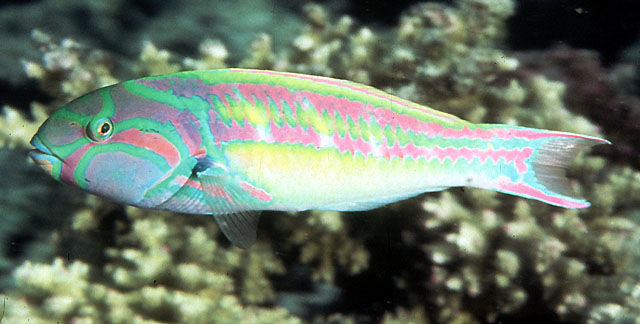fish: (29, 67, 612, 251)
